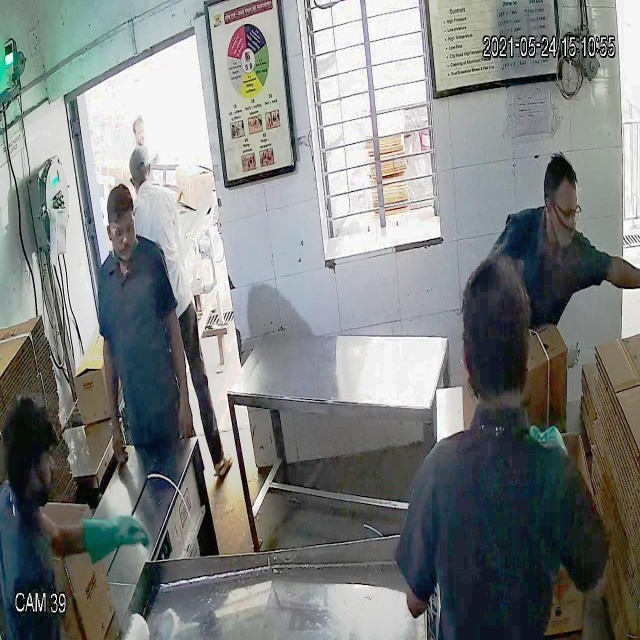Gafas: (543, 187, 585, 231), (102, 209, 139, 244)
